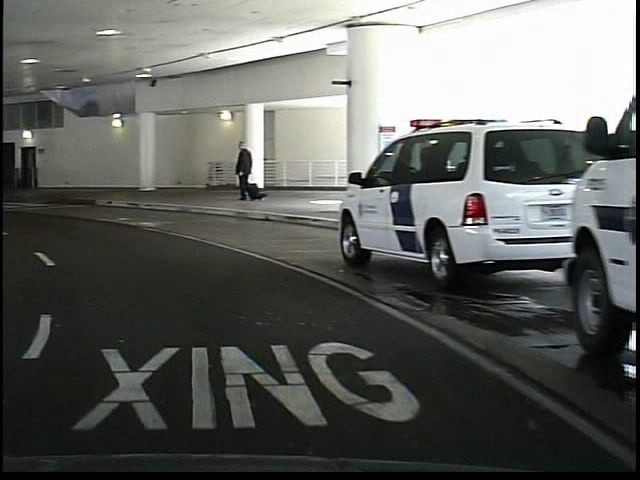person: (228, 138, 252, 202)
